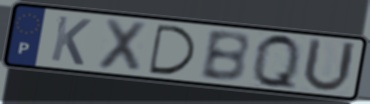B: (197, 30, 252, 84)
D: (147, 22, 199, 77)
K: (48, 13, 94, 68)
Q: (252, 31, 302, 93)
U: (299, 36, 358, 95)
X: (94, 16, 151, 76)
